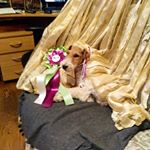puppy: (56, 41, 95, 95)
